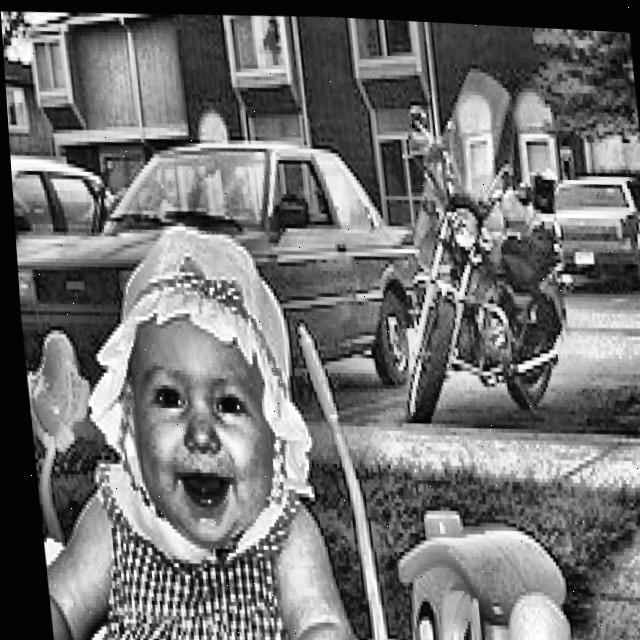light_vehicle: (4, 80, 438, 426), (7, 139, 143, 409), (524, 139, 640, 284)
